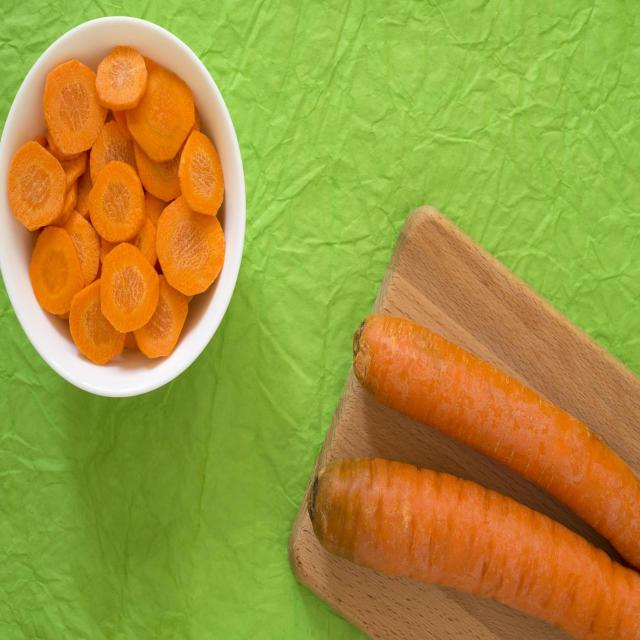carrot: (247, 310, 639, 639), (0, 48, 241, 376)
